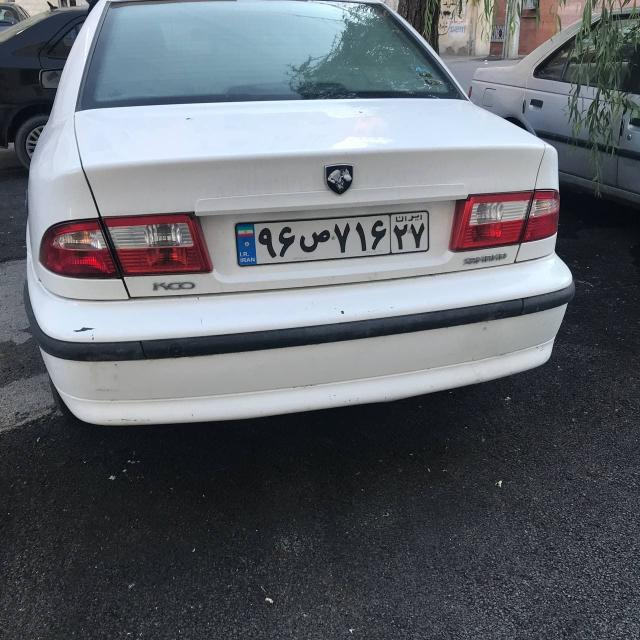Plates: (234, 206, 430, 266)
